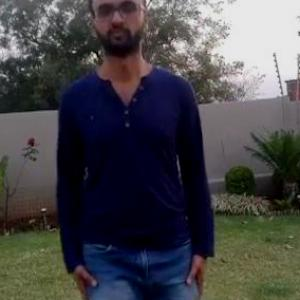follow: (57, 0, 220, 299)
